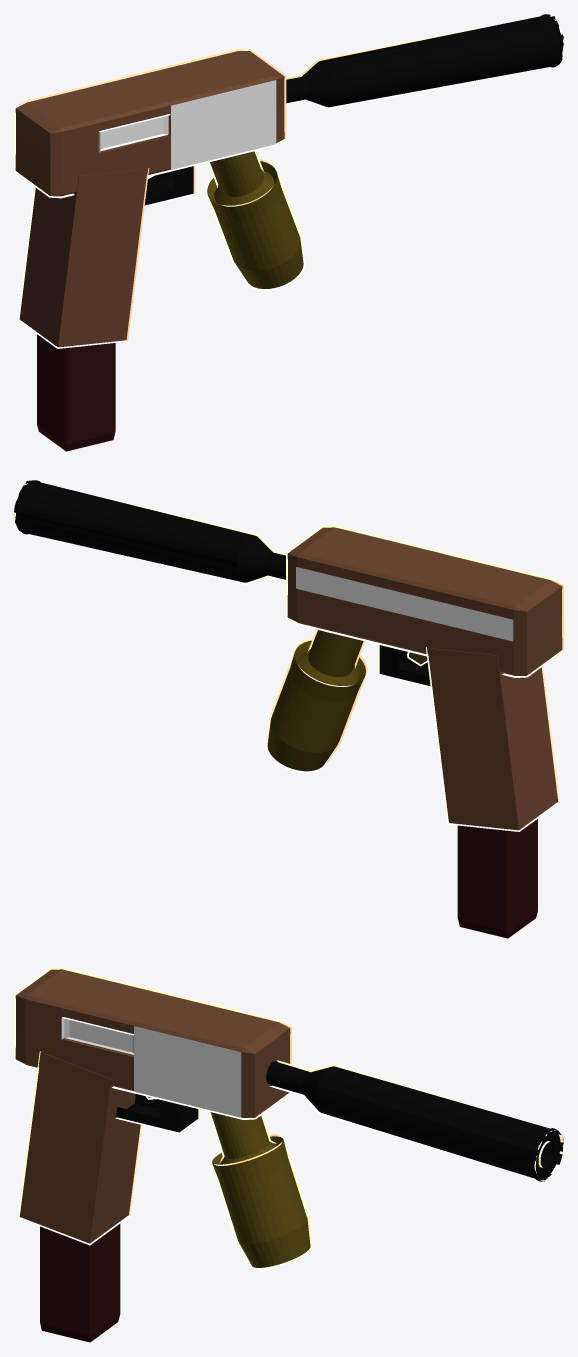
File: tump_gun.glb
3 views of the same model, one above another, from view 1: azimuth 30°, elevation 25°; view 2: azimuth 150°, elevation 25°; view 3: azimuth 330°, elevation 25° (orthographic). The views are drawn at different scales.
Parts seen in each view (by area): view 1: gun, magzine; view 2: gun, magzine; view 3: gun, magzine.
Part boxes in pixels (x1=…): gun: x1=14, y1=14, x2=563, y2=348; magzine: x1=37, y1=334, x2=115, y2=451; gun: x1=14, y1=480, x2=563, y2=831; magzine: x1=457, y1=819, x2=537, y2=938; gun: x1=14, y1=967, x2=563, y2=1269; magzine: x1=40, y1=1224, x2=120, y2=1342.
Bounding box in the file's own units: 15.07 × 9.25 × 2.03.
